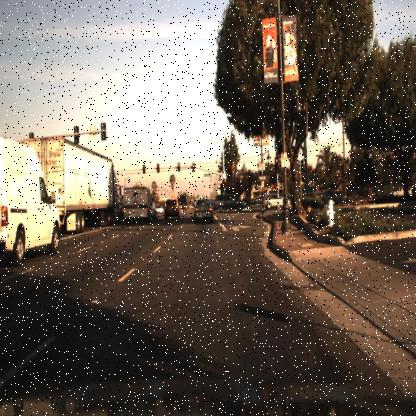car: (0, 130, 60, 262), (121, 186, 150, 228), (260, 190, 294, 218), (211, 189, 248, 214), (212, 191, 248, 214), (315, 184, 346, 207), (190, 199, 214, 225), (160, 195, 182, 221), (312, 188, 344, 204), (150, 198, 158, 223)
trafficLight-Red: (272, 155, 282, 171), (189, 158, 197, 173), (140, 162, 148, 176), (141, 162, 147, 174), (153, 161, 159, 173), (174, 158, 180, 170), (156, 163, 161, 175), (176, 160, 181, 172), (191, 160, 196, 172), (221, 177, 226, 188)
truck: (21, 132, 120, 231)
